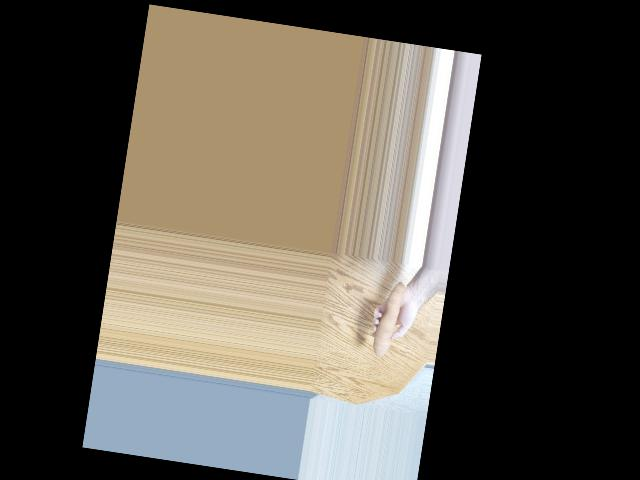sweet_potato: (366, 282, 407, 359)
